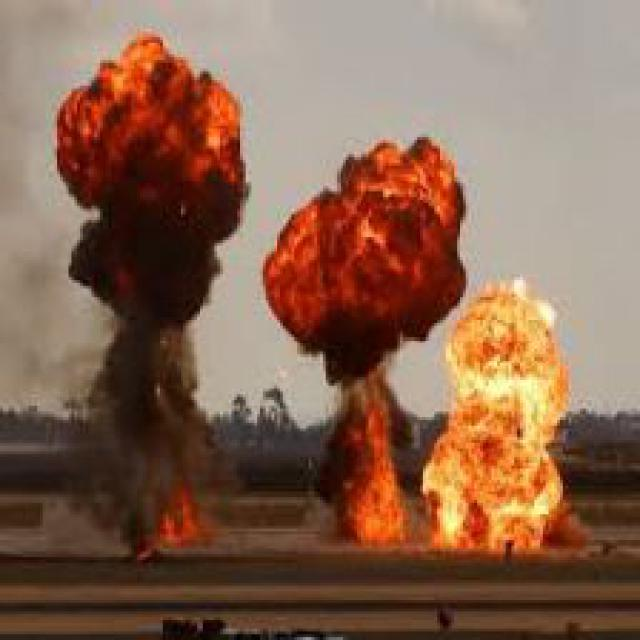fire: (52, 23, 252, 557), (263, 103, 463, 554), (423, 266, 580, 580)
